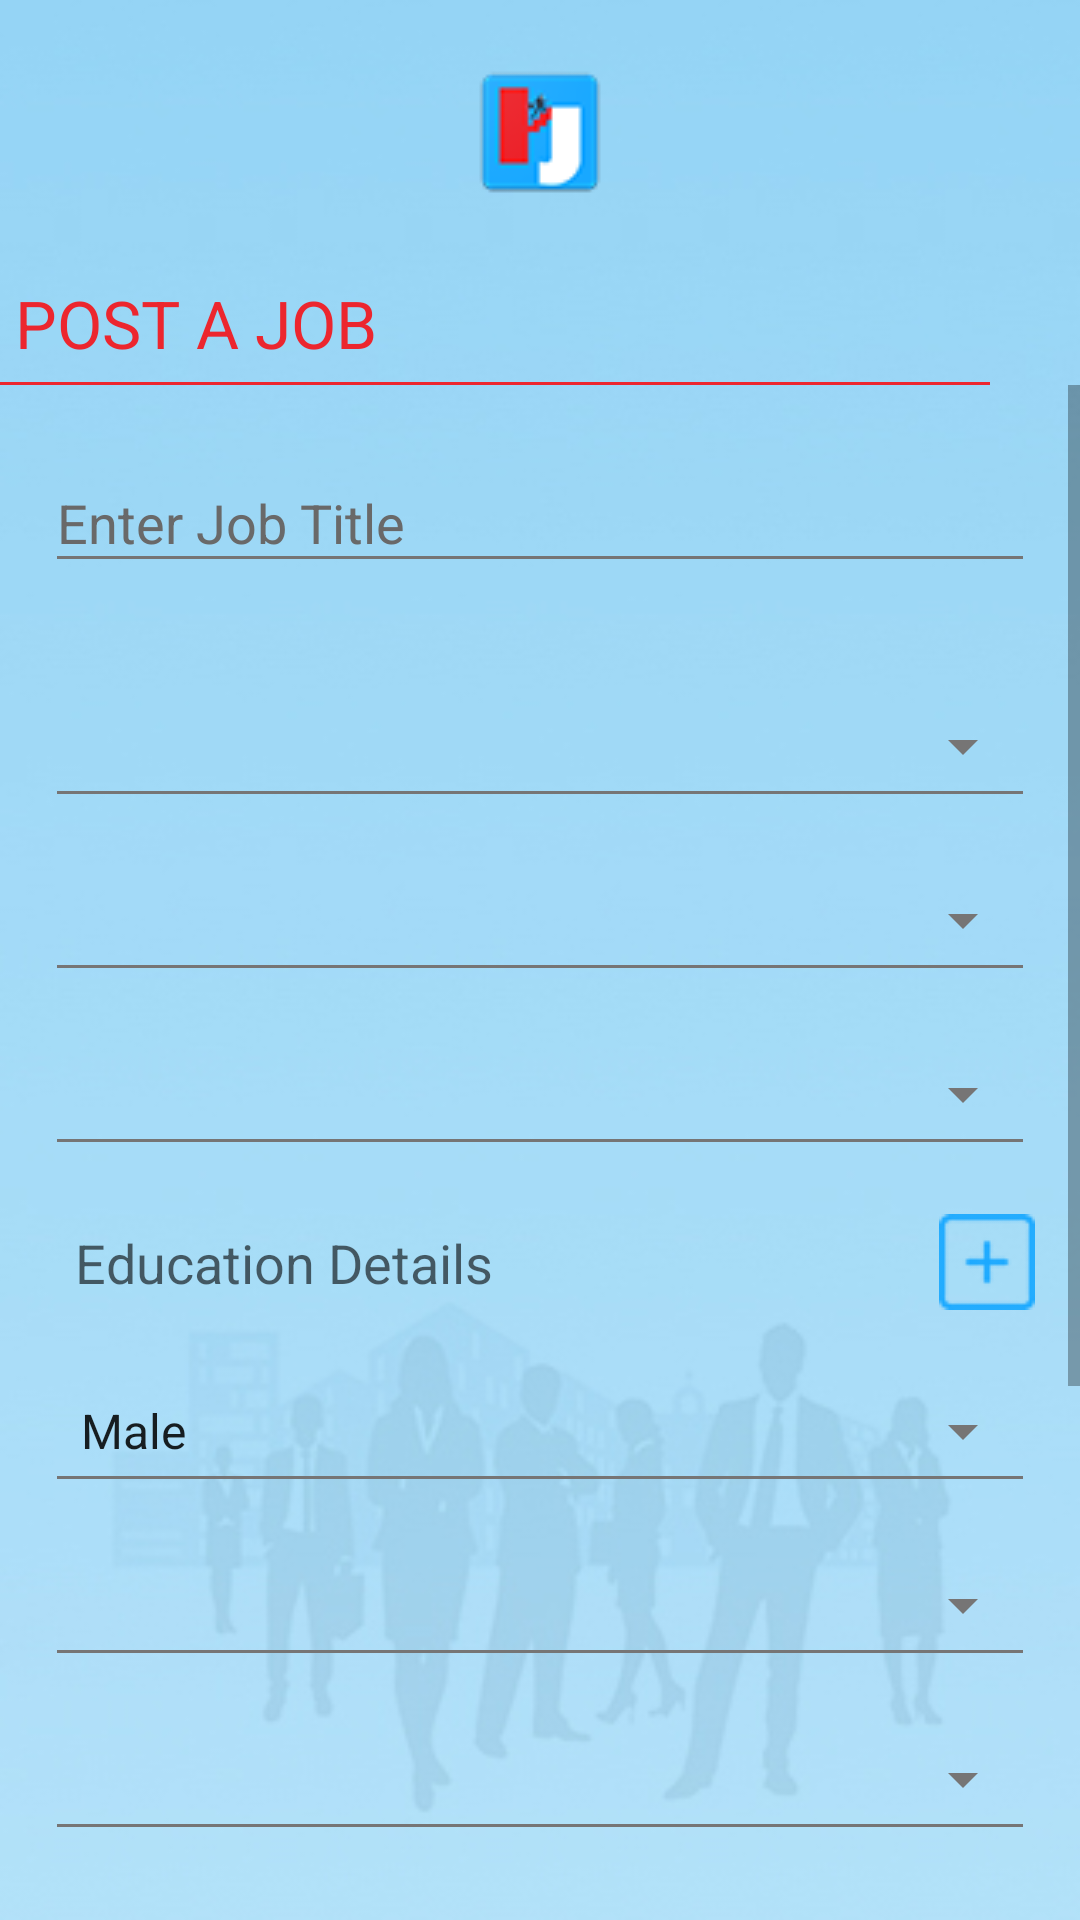

Icon click points for this 1080×1920 phone screenshot, format point (x, y):
add qualification: point (987, 1262)
